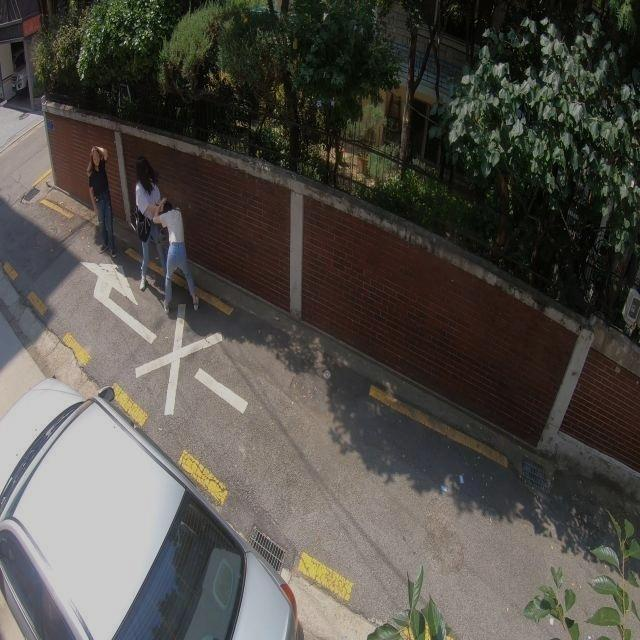fight: (131, 157, 202, 320)
non-fight: (82, 143, 120, 258)
